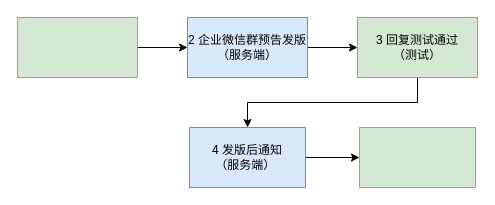
This 495x205 diagram has some shape labels left out. The shapes that lost their labels are listed below. From the top down, each one's box as (x1, y1, x2, y2) in pixels, then its label:
(16, 16, 138, 78): 1 代码测试通过 （测试）
(358, 126, 476, 188): 5 线上回归与确认 （测试）
